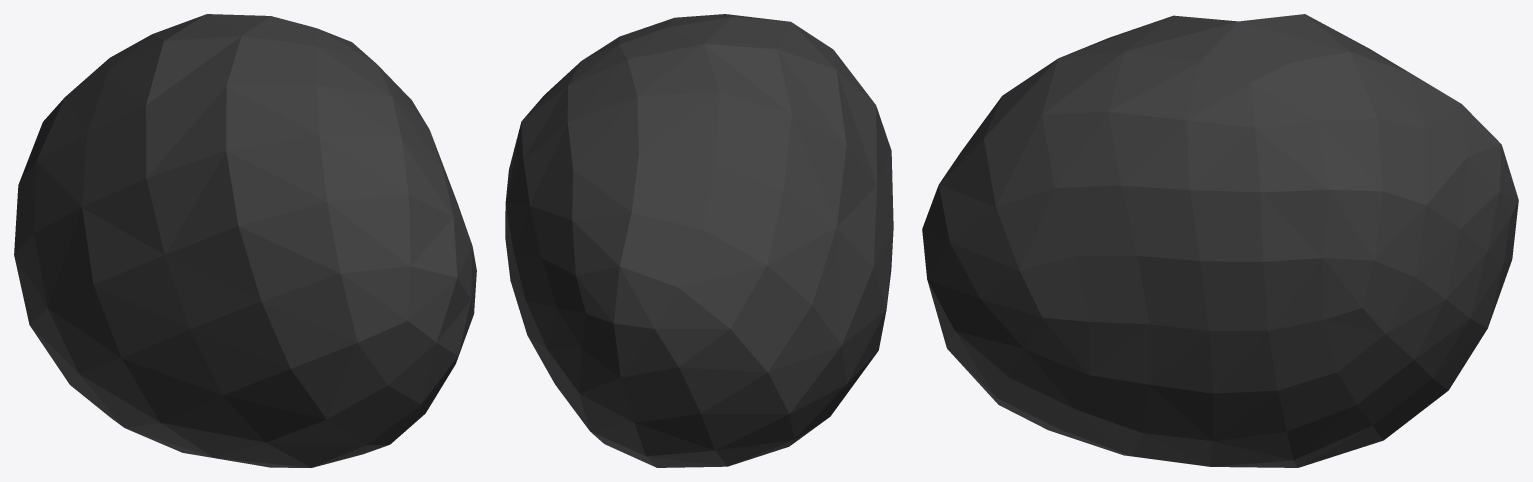
File: Dorsal_sesamoid_4.glb
3 renders of one model, left to right at view 1: azimuth 30°, elevation 25°; view 2: azimuth 150°, elevation 25°; view 3: azimuth 270°, elevation 25°, orthographic. The views are drawn at different scales.
Visible parts, largest first — view 1: Dorsal_sesamoid_4; view 2: Dorsal_sesamoid_4; view 3: Dorsal_sesamoid_4.
Boxes of the visible parts, x1,y1,x2,y2 form: Dorsal_sesamoid_4: (14, 14, 476, 467); Dorsal_sesamoid_4: (505, 14, 893, 467); Dorsal_sesamoid_4: (922, 14, 1518, 467).
Size of the model in its own units: 0.0288 by 0.0324 by 0.0405.
1 material, 1 textured.
